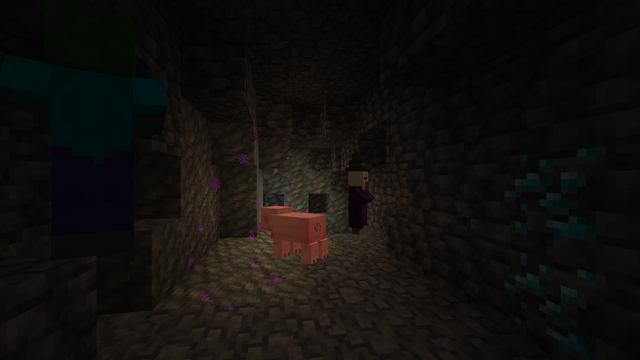cochons: (276, 210, 322, 262)
sorcieres: (345, 168, 370, 235)
zombies: (21, 0, 151, 265)
